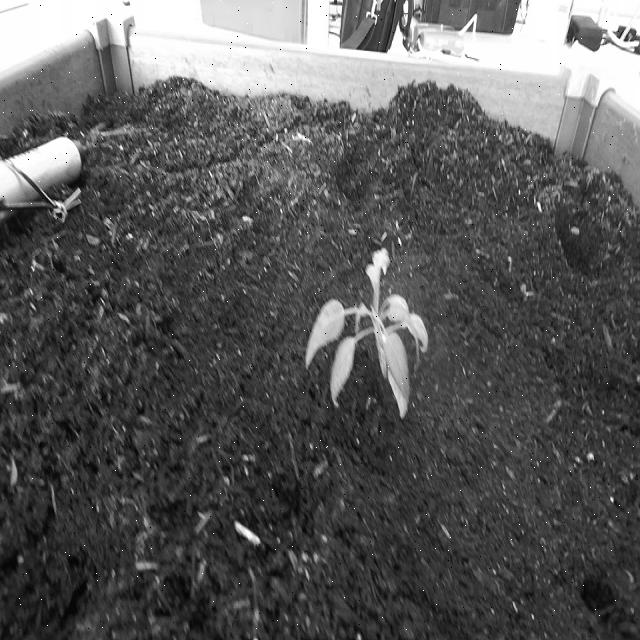Healthy: (305, 248, 430, 428)
